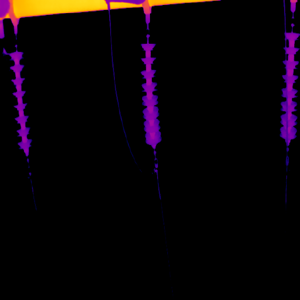insulator: (139, 38, 163, 147), (8, 48, 31, 156), (278, 28, 299, 145)
